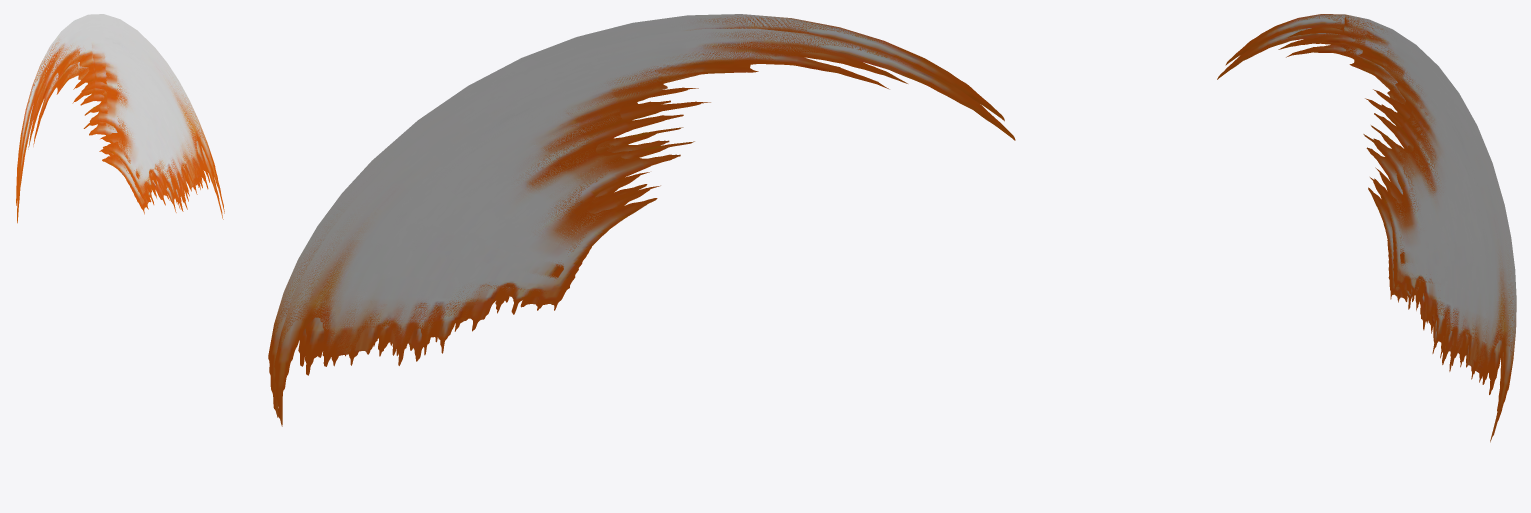
File: fx_cookie0001_skill01.fbx
The picture shows the model from 3 angles, left to right: view 1: azimuth 30°, elevation 25°; view 2: azimuth 150°, elevation 25°; view 3: azimuth 270°, elevation 25°; orthographic projection. The views are drawn at different scales.
Parts seen in each view (by area): view 1: L_scratch, L_scratch2; view 2: L_scratch2, L_scratch; view 3: L_scratch, L_scratch2.
Part boxes in pixels (left/top/right/bottom): L_scratch: left=16, top=14, right=224, bottom=213; L_scratch2: left=17, top=62, right=223, bottom=223; L_scratch2: left=274, top=28, right=1015, bottom=426; L_scratch: left=268, top=14, right=1004, bottom=417; L_scratch: left=1225, top=14, right=1516, bottom=437; L_scratch2: left=1217, top=28, right=1503, bottom=442.
Bounding box in the file's own units: 278 × 268 × 235.
